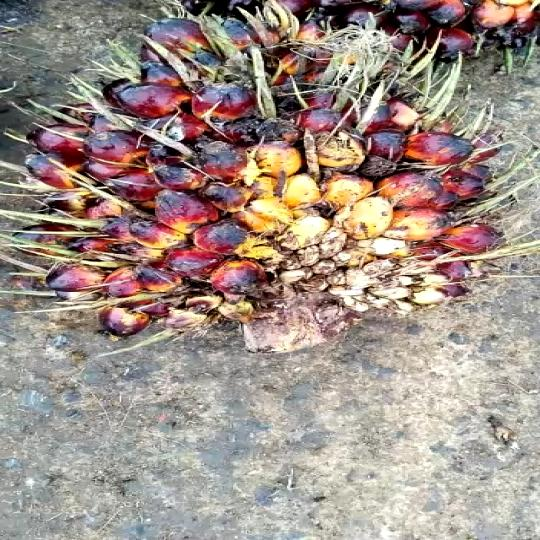kurang masak: (1, 0, 540, 367)
